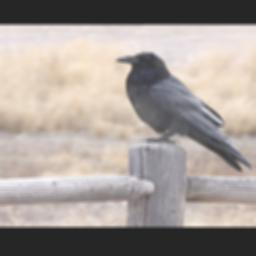Crow: (114, 50, 255, 174)
